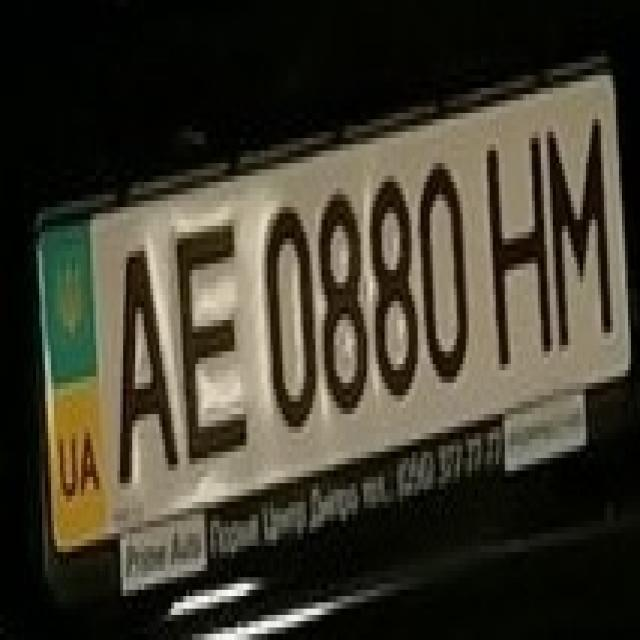0: (246, 175, 318, 434), (408, 138, 472, 383)
8: (306, 170, 372, 414), (358, 150, 423, 396)
A: (93, 220, 177, 483)
E: (160, 200, 252, 464)
H: (472, 106, 550, 364)
M: (535, 94, 619, 339)
